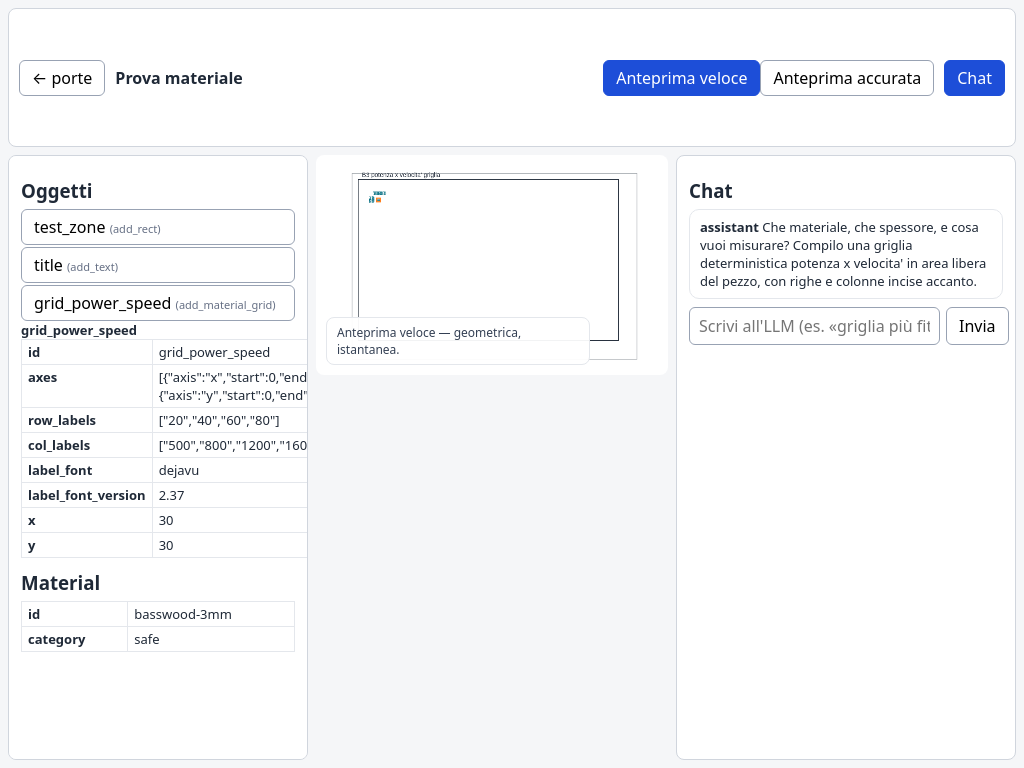
Test: chat › the chat panel can be folded away (collapsible on tablet)
The width and height of the screenshot is (1024, 768).
Expected: the element with test id "chat" that starts with "Chat" is shown, top-left (676, 155), bottom-right (1016, 760)
Click the button with test id "chat-toggle": x=975, y=78 top-left (944, 60), bottom-right (1005, 96)
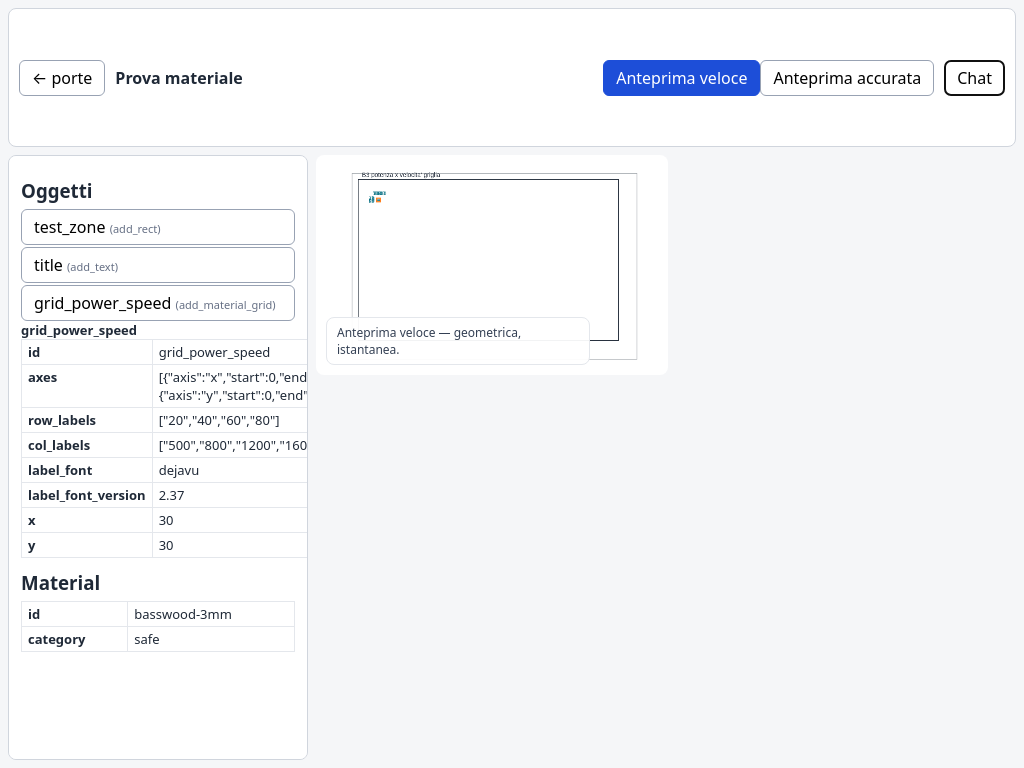
Expected: the element with test id "chat" is gone
Click the button with test id "chat-toggle": x=975, y=78 top-left (944, 60), bottom-right (1005, 96)
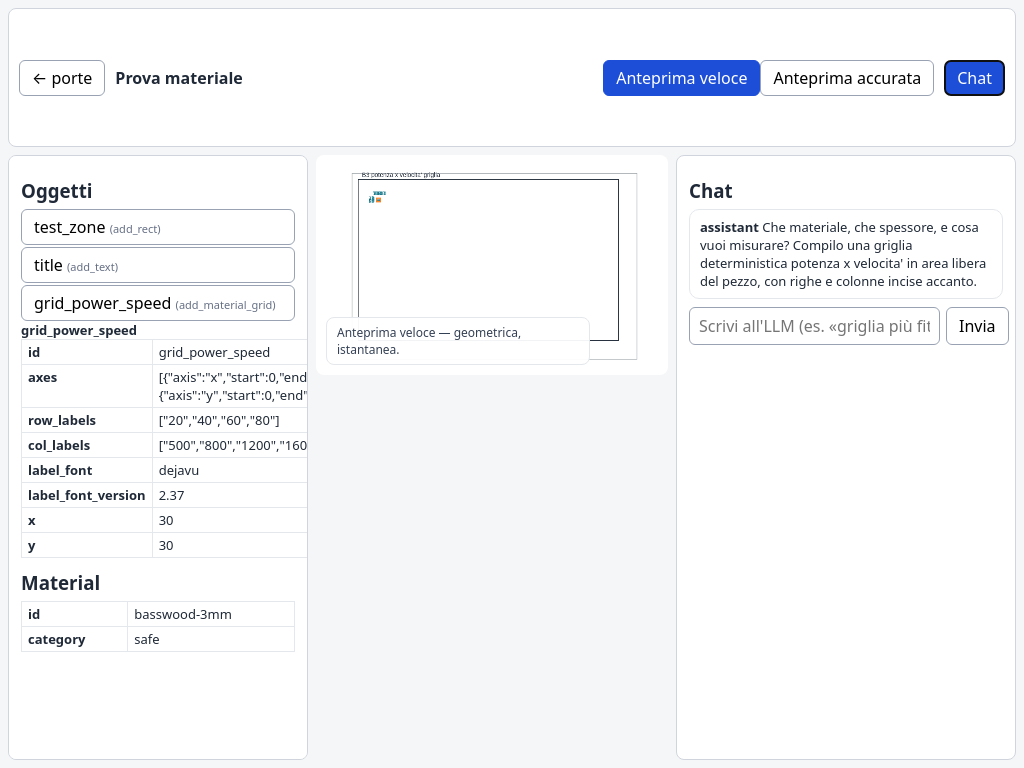
Expected: the element with test id "chat" that starts with "Chat" is shown, top-left (676, 155), bottom-right (1016, 760)
